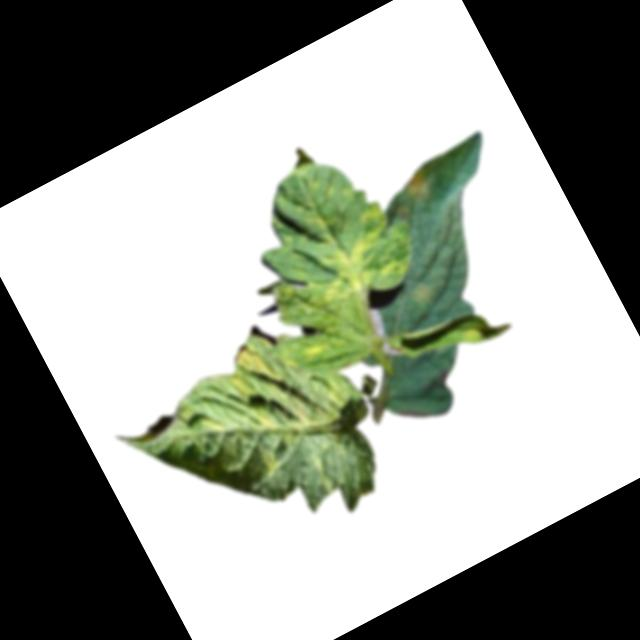Leaf_Mold: (253, 132, 425, 322), (213, 326, 319, 442), (396, 166, 434, 205), (294, 329, 333, 365), (404, 273, 439, 308), (255, 443, 285, 475)
